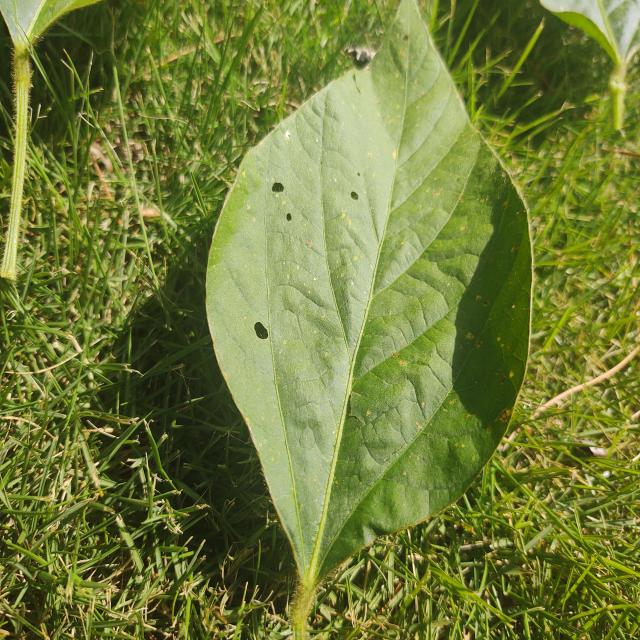Soybean: (203, 0, 535, 640)
downey_mildew: (446, 168, 535, 449), (369, 111, 464, 327), (360, 400, 482, 560), (322, 74, 394, 319), (258, 106, 331, 343), (378, 0, 451, 185), (267, 277, 343, 441), (216, 154, 280, 342), (351, 337, 440, 466), (355, 281, 442, 388), (342, 476, 433, 561), (432, 169, 499, 275), (453, 337, 524, 436), (376, 284, 446, 375), (373, 227, 434, 295), (276, 260, 335, 321), (435, 250, 483, 286)
